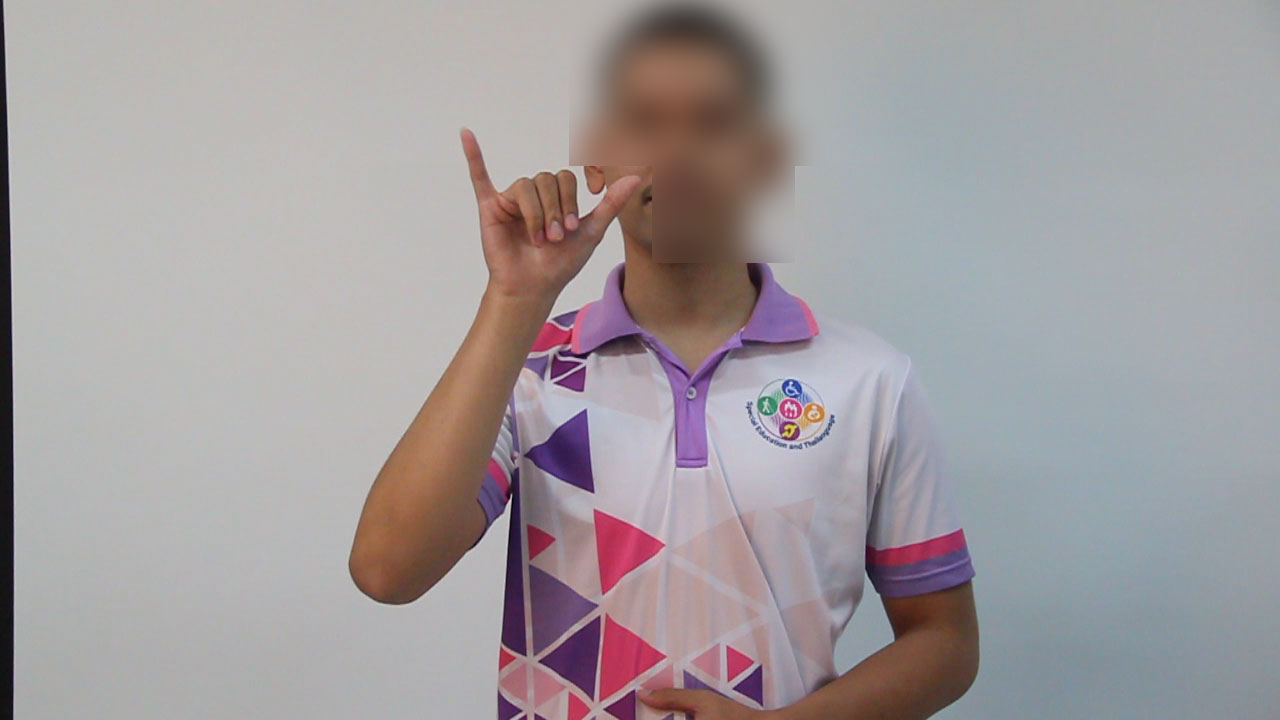yor: (449, 120, 645, 304)
